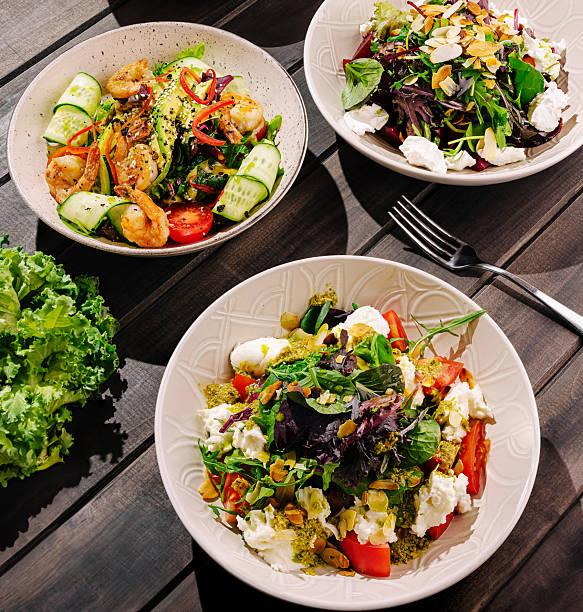Braised Crucian Carp: (153, 263, 535, 607), (5, 21, 304, 258), (302, 2, 577, 189)
